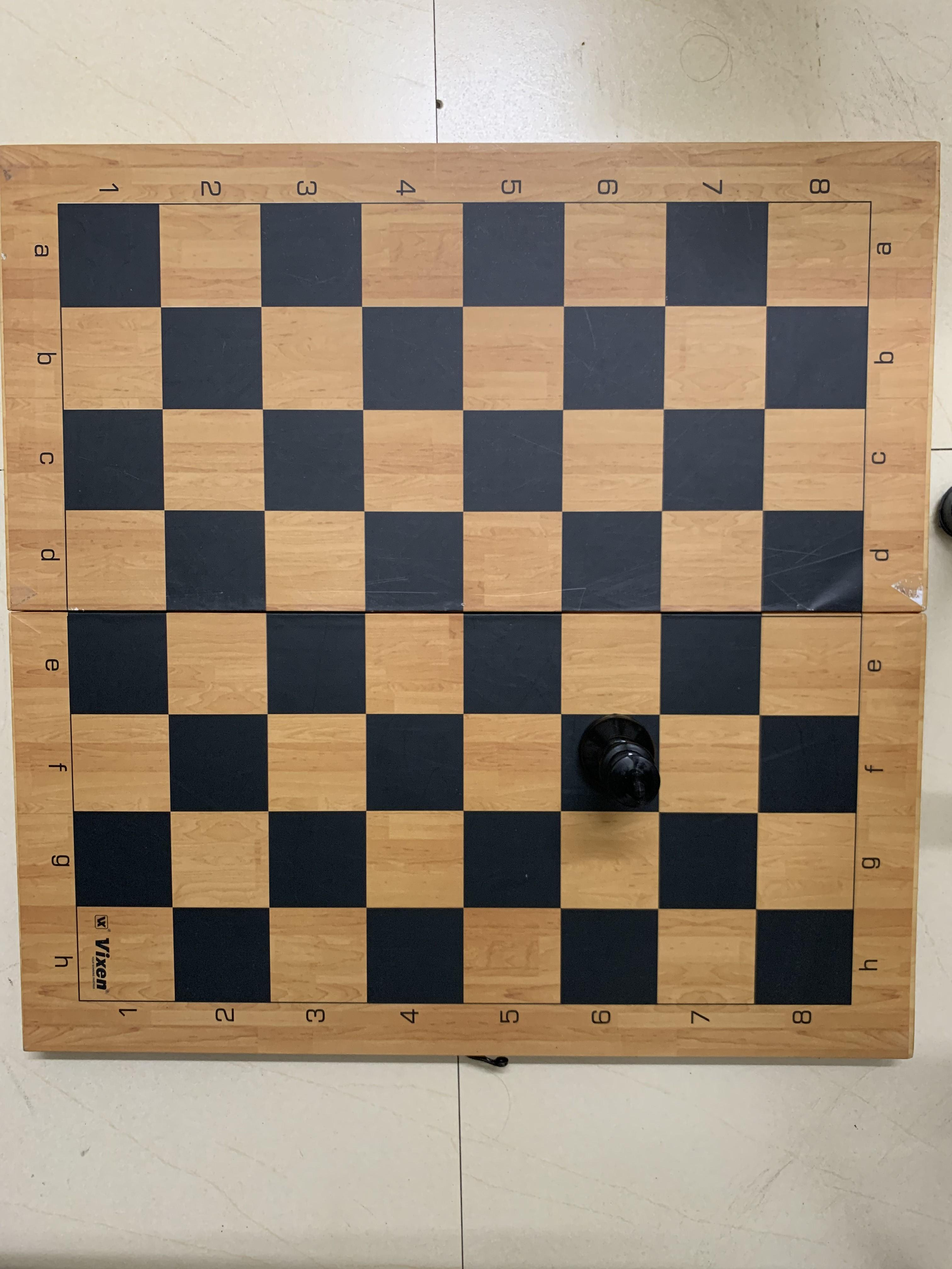black_king: (564, 708, 662, 814)
